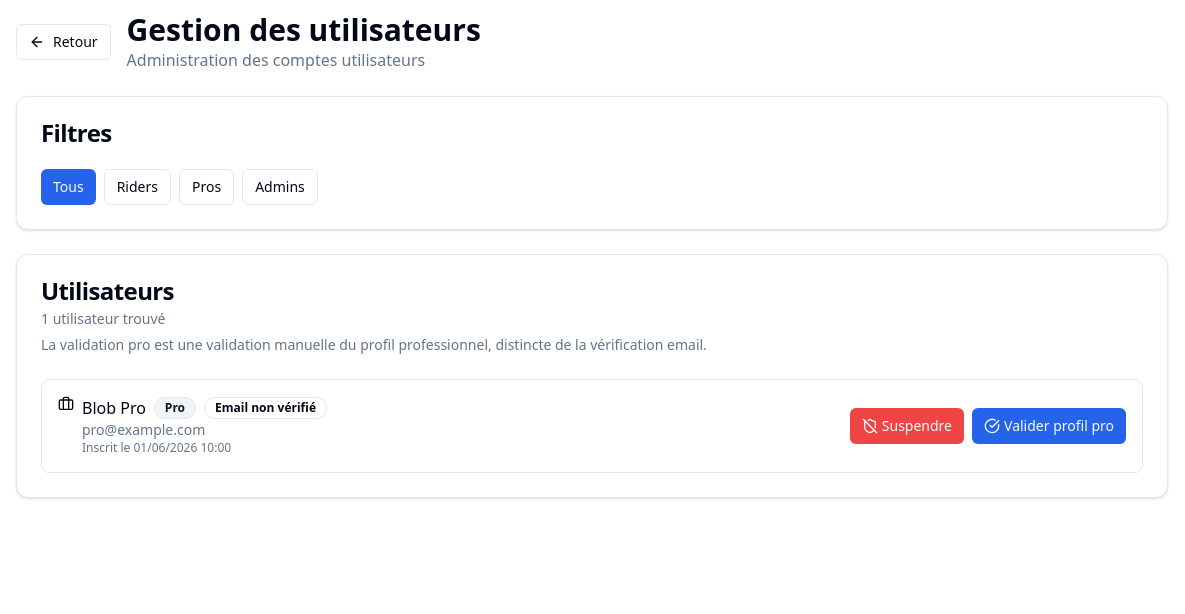
AdminUsers › remplace le refus géolocalisation par un message métier court
Click the button "Valider profil pro". click: (1049, 426)
box: [972,408,1126,444]
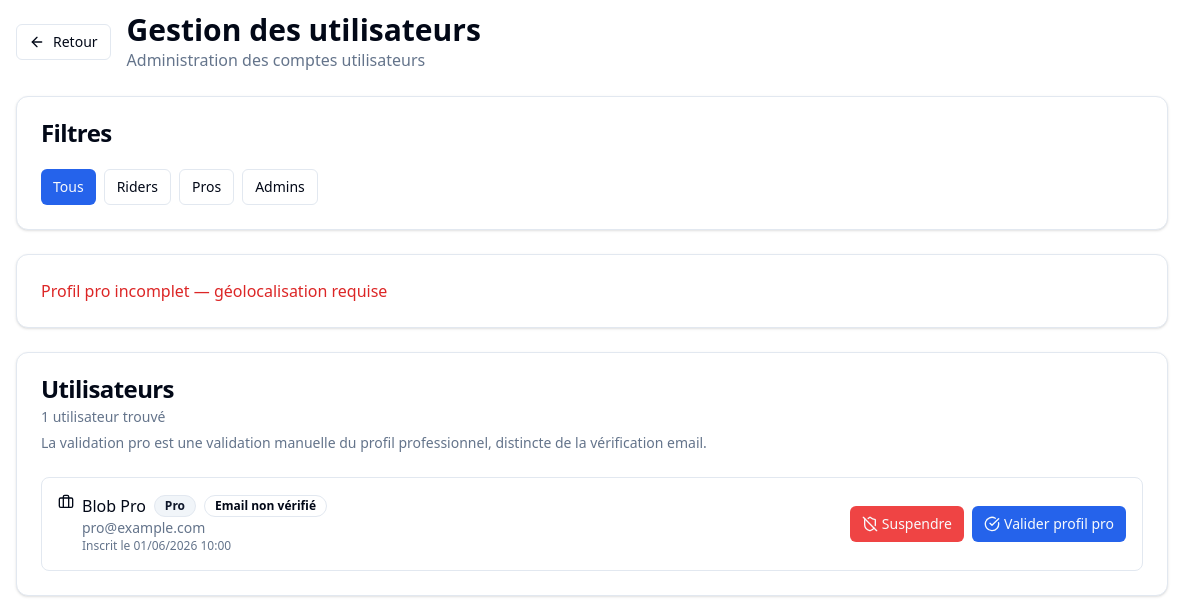
Expected: the text "Profil pro incomplet — géolocalisation requise" is shown, [41,280,387,302]
